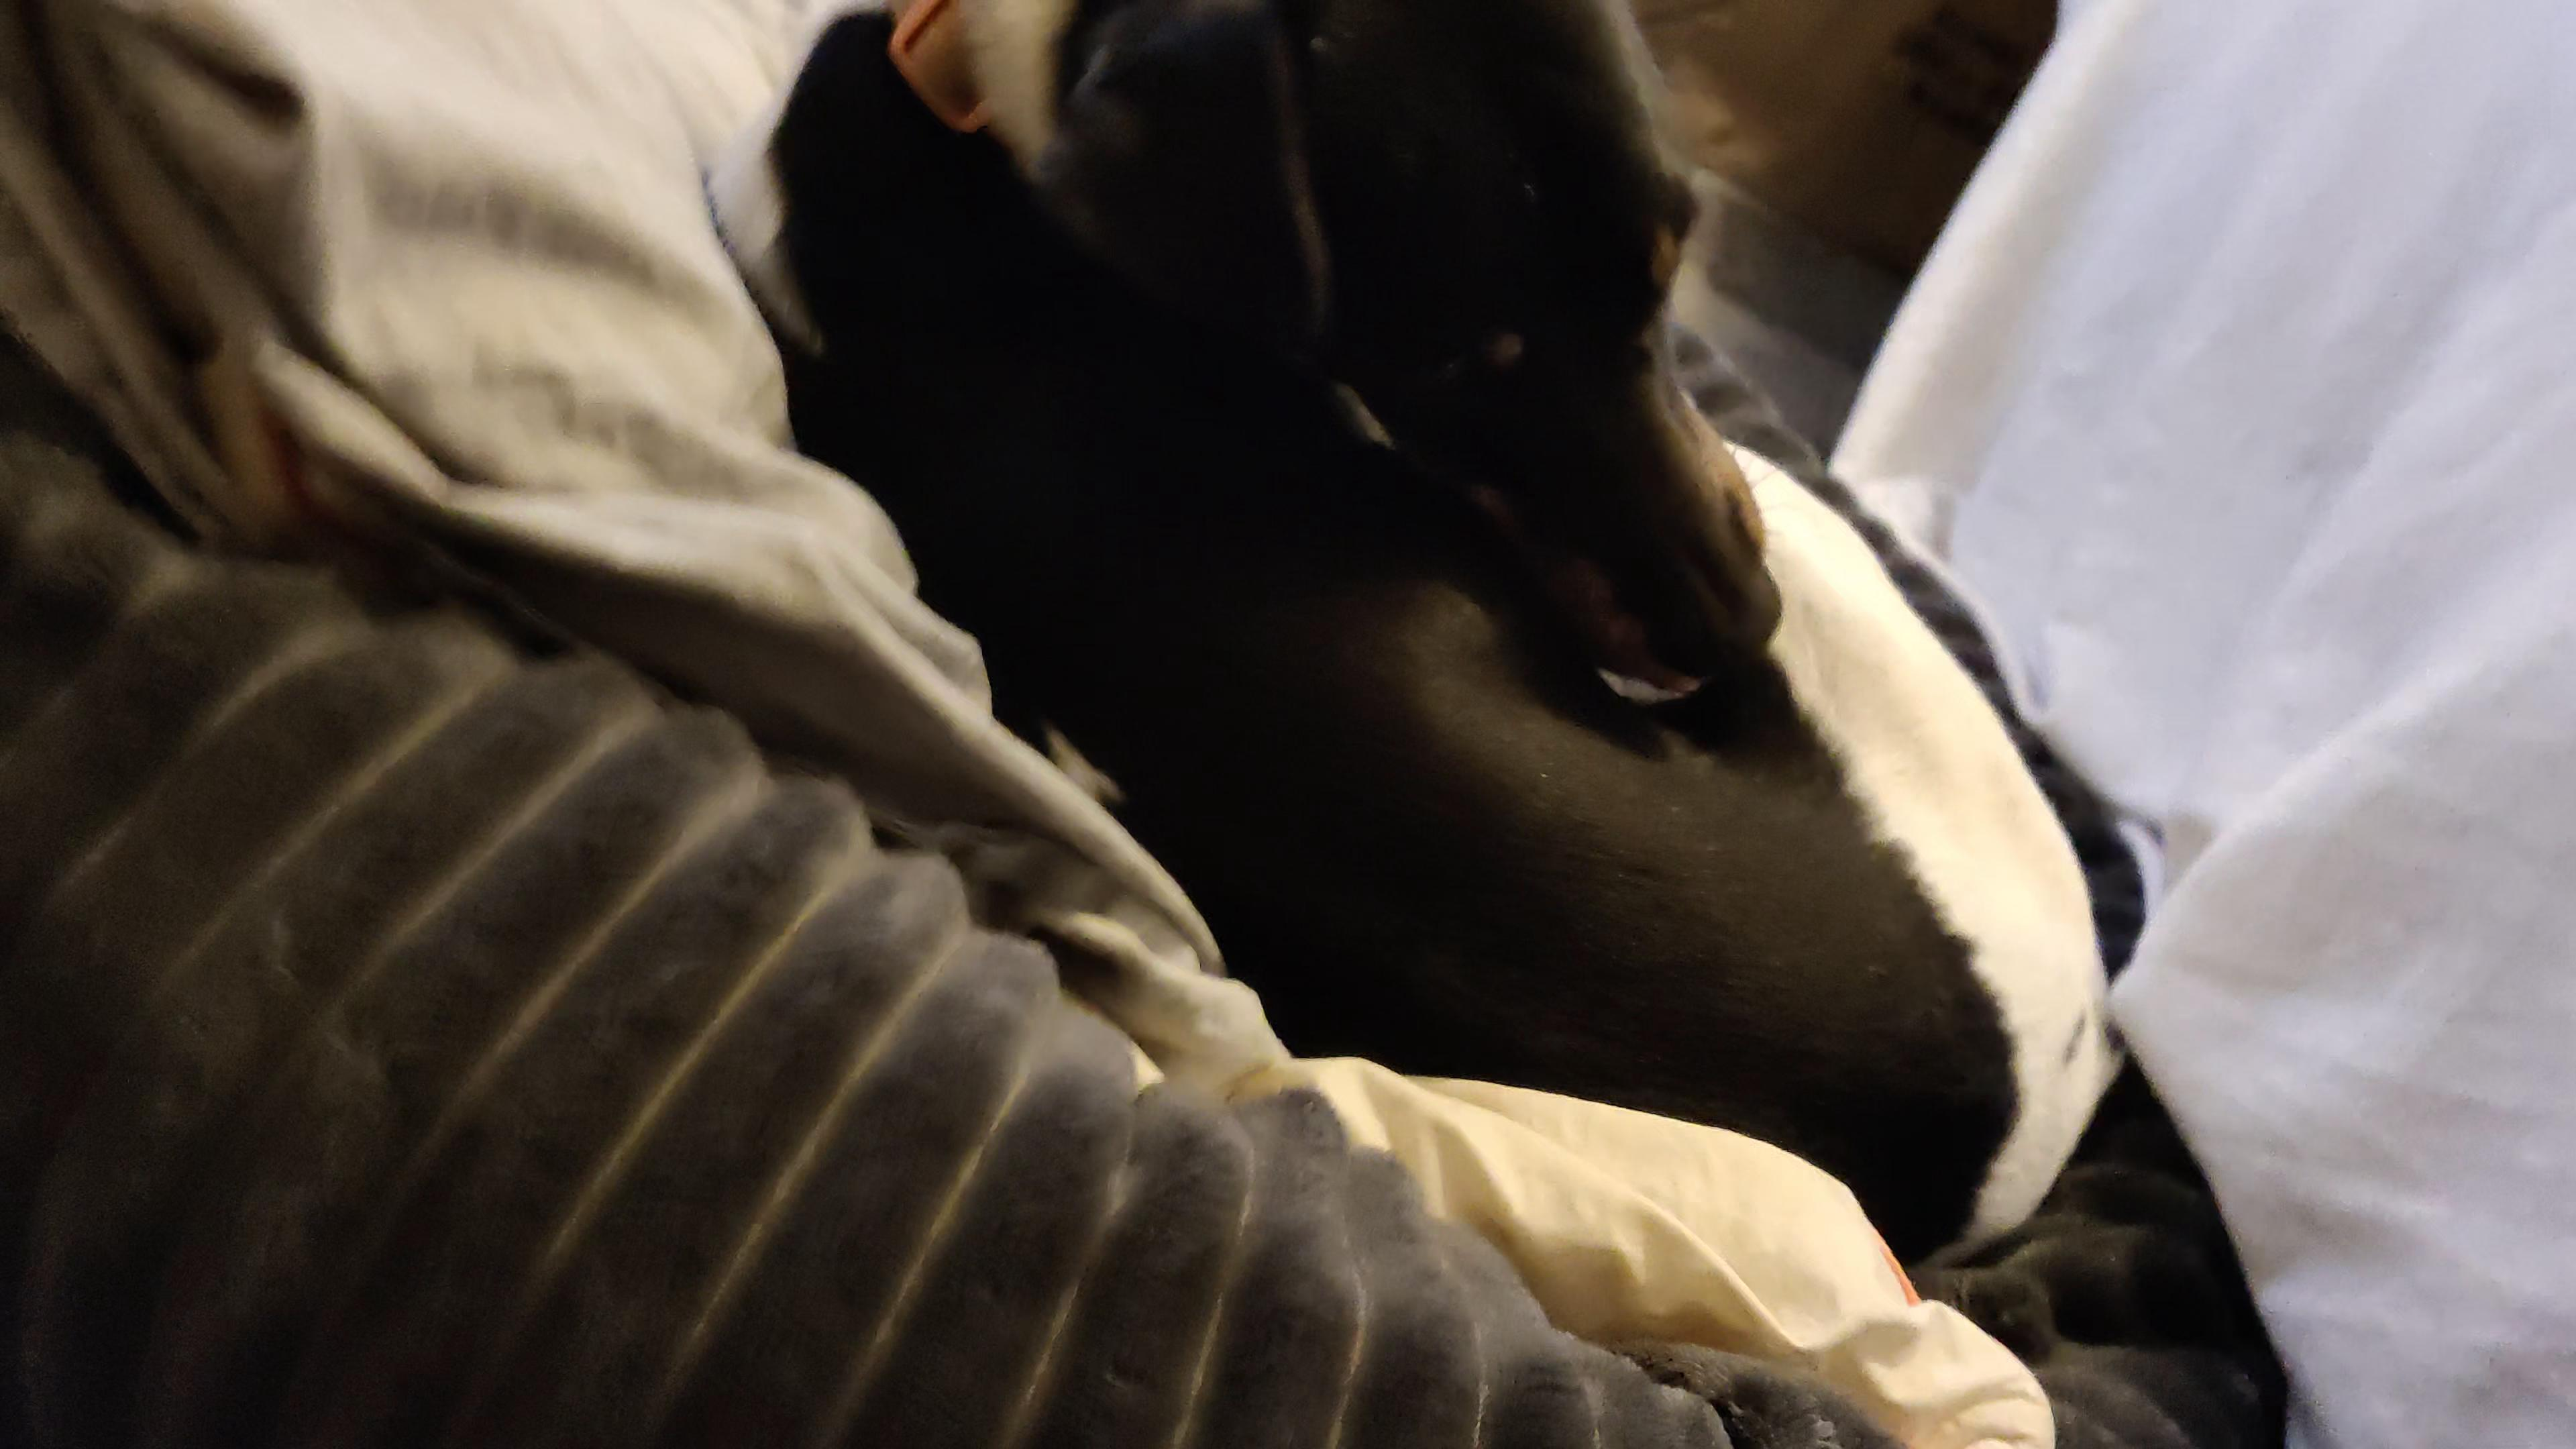Dog: (667, 0, 2212, 1267)
